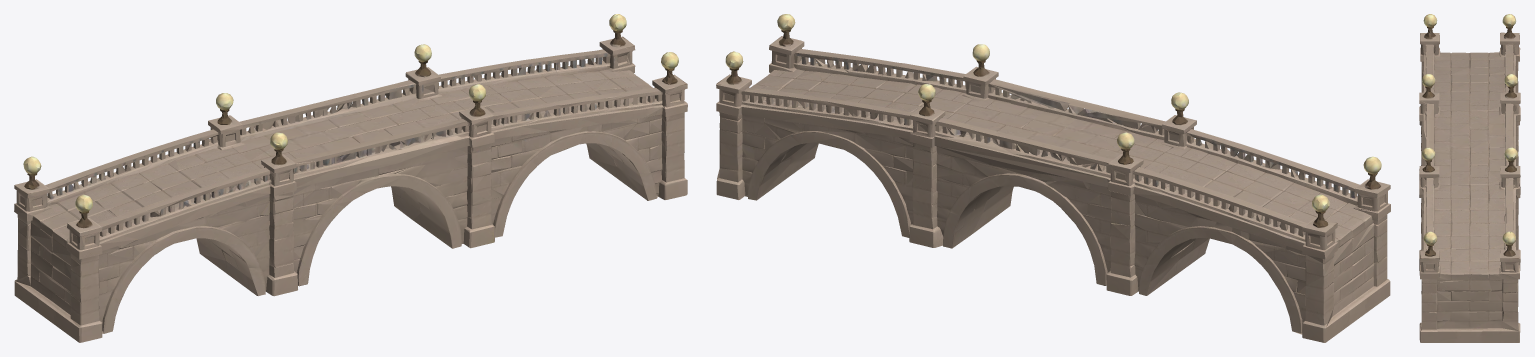
Rendered from stone_bridge.glb.
3 renders of one model, left to right at view 1: azimuth 30°, elevation 25°; view 2: azimuth 150°, elevation 25°; view 3: azimuth 270°, elevation 25°, orthographic. The views are drawn at different scales.
Bounding box in the file's own units: 20.37 × 5 × 3.87.
1 material, 1 textured.
